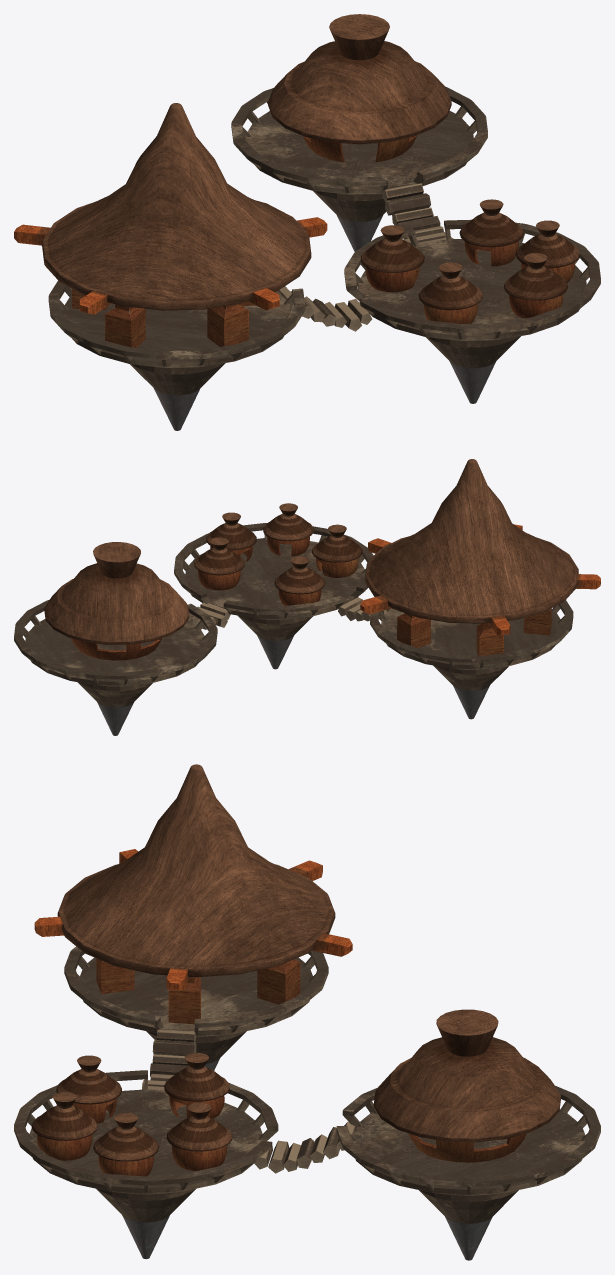
3 renders of one model, top to bottom at view 1: azimuth 30°, elevation 25°; view 2: azimuth 150°, elevation 25°; view 3: azimuth 270°, elevation 25°, orthographic. The views are drawn at different scales.
Parts seen in each view (by area): view 1: Paploo_Village; view 2: Paploo_Village; view 3: Paploo_Village.
Part boxes in pixels (x1,y1,x2,y2): Paploo_Village: (14,14,600,430); Paploo_Village: (14,459,600,735); Paploo_Village: (14,764,600,1260).
Size of the model in its own units: 26.12 by 15.53 by 23.25.
1 material, 1 textured.
